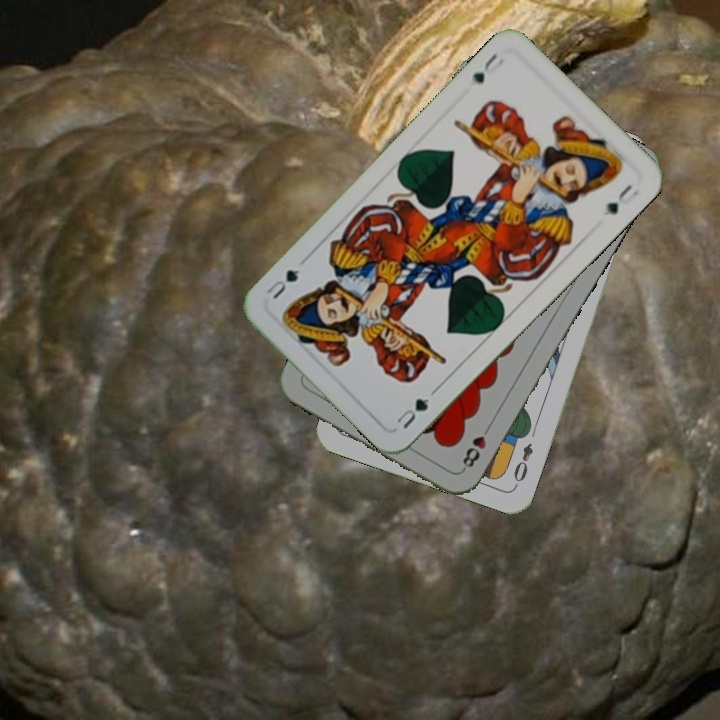EO: (509, 439, 536, 490)
GU: (392, 394, 432, 432), (467, 49, 507, 86)
H8: (458, 420, 494, 473)
